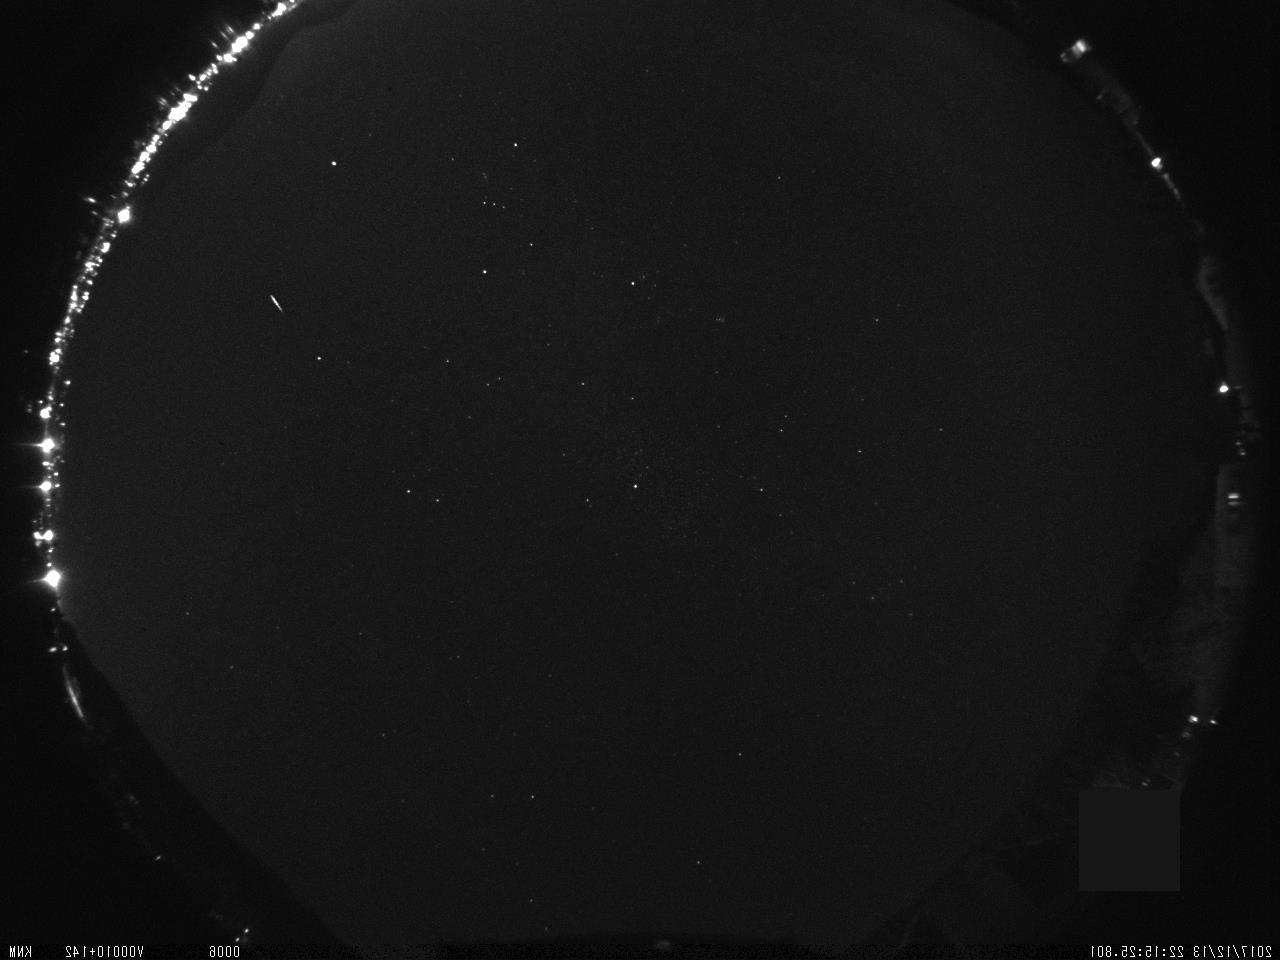meteor: (267, 290, 287, 315)
